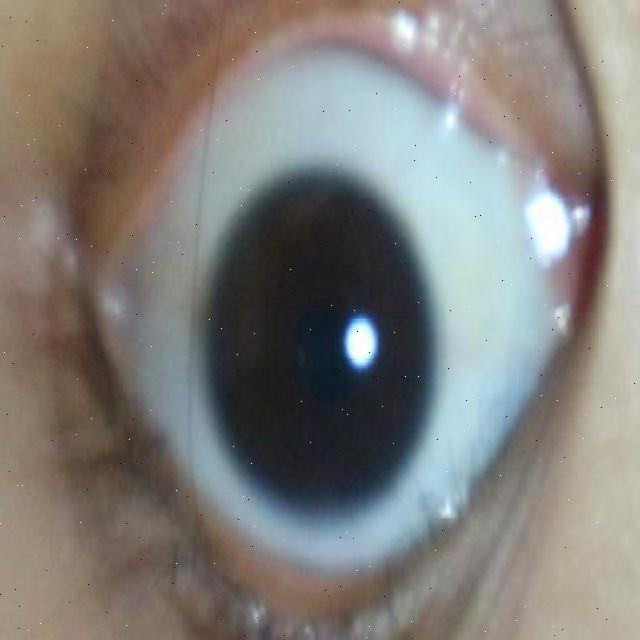Normal: (193, 162, 440, 520)
